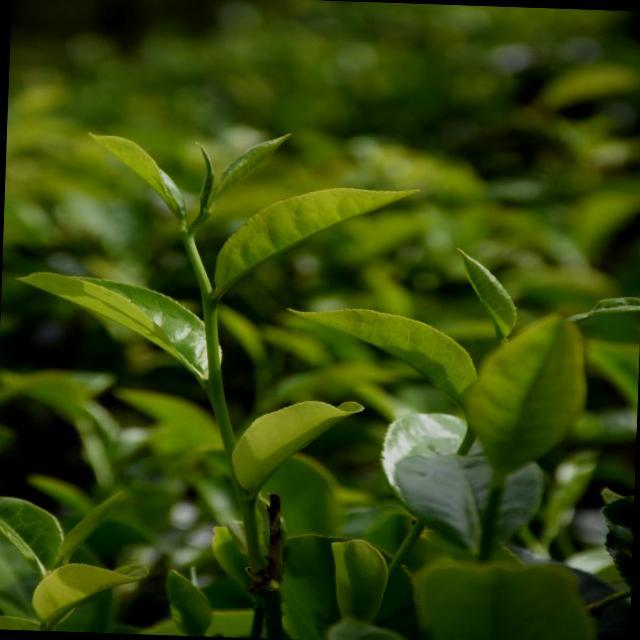Stem: (182, 237, 197, 253)
